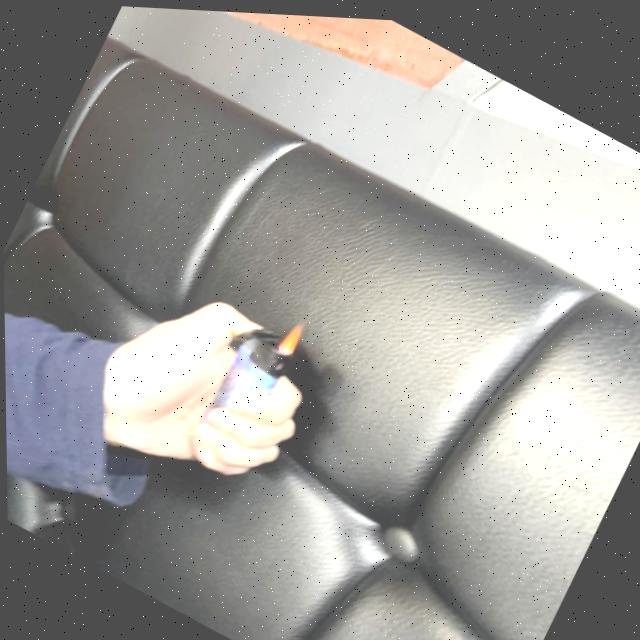Fire: (272, 309, 305, 354)
